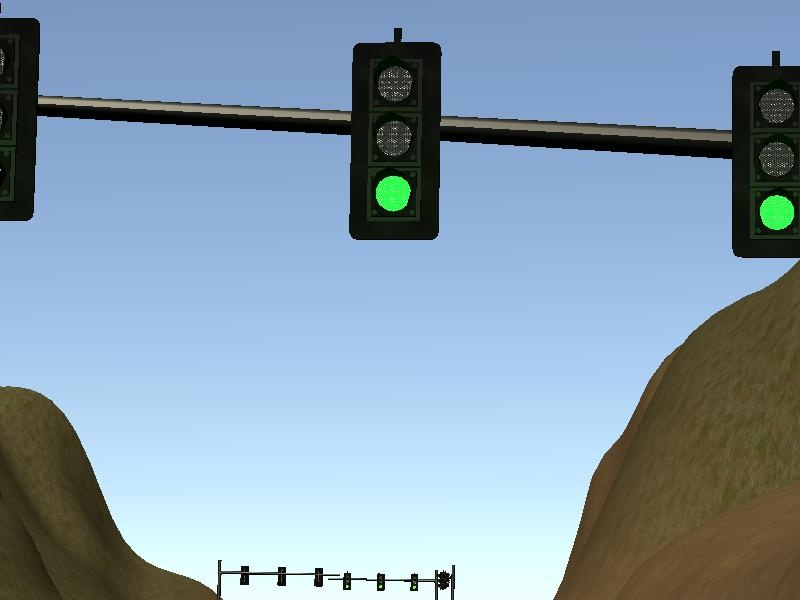GREEN: (347, 44, 440, 242), (728, 68, 800, 259)
